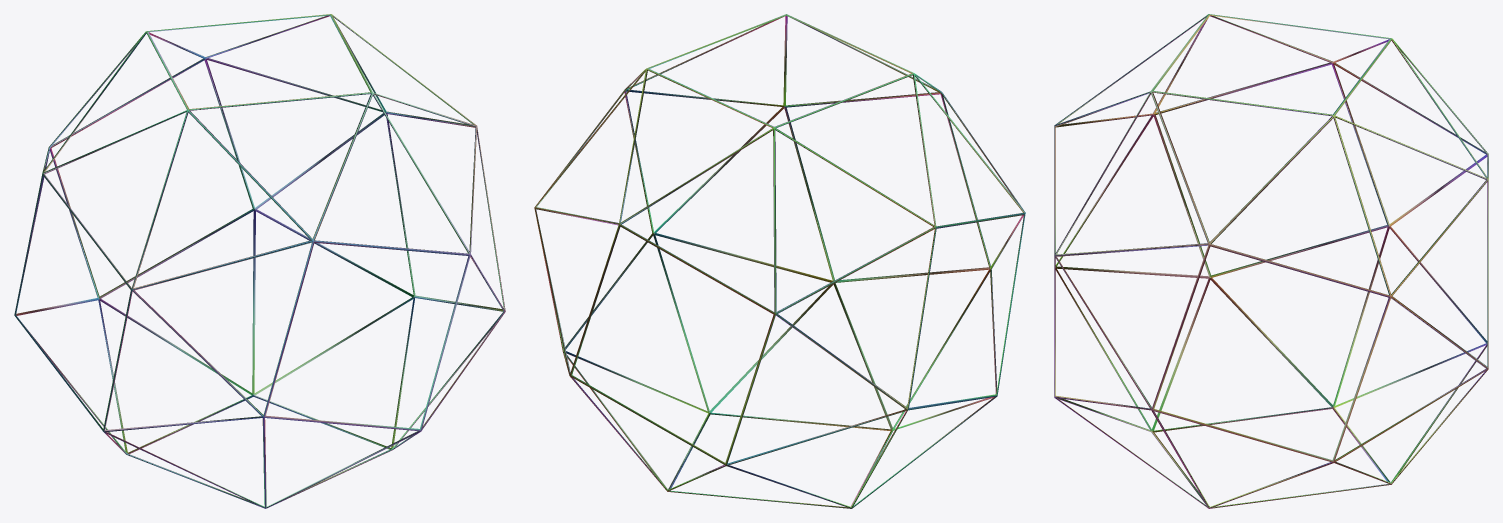
File: zeometry-wireframes-wire-snub-cube_v3.glb
3 views of the same model, side by side, from view 1: azimuth 30°, elevation 25°; view 2: azimuth 150°, elevation 25°; view 3: azimuth 270°, elevation 25° (orthographic).
Parts seen in each view (by area): view 1: Wire Snub Cube_v3; view 2: Wire Snub Cube_v3; view 3: Wire Snub Cube_v3.
Boxes of the visible parts, x1=… form: Wire Snub Cube_v3: x1=14, y1=14, x2=505, y2=508; Wire Snub Cube_v3: x1=534, y1=14, x2=1025, y2=508; Wire Snub Cube_v3: x1=1054, y1=14, x2=1488, y2=508.
Bounding box in the file's own units: 0.5 × 0.5 × 0.5.
